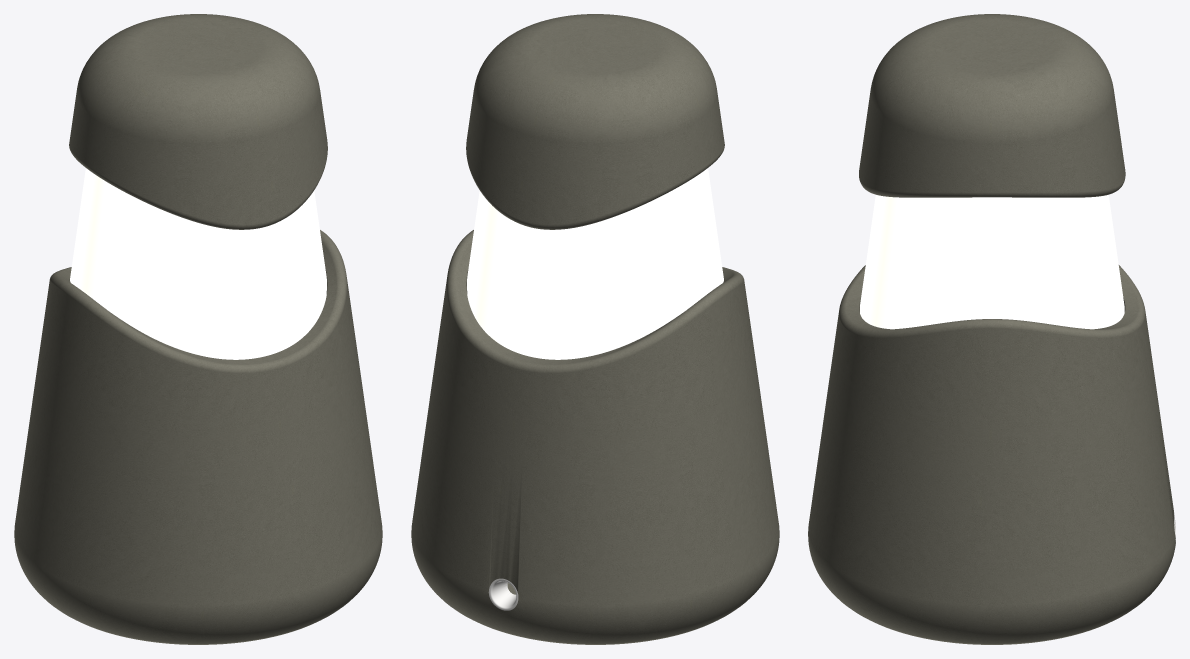
File: ilo.glb
3 renders of one model, left to right at view 1: azimuth 30°, elevation 25°; view 2: azimuth 150°, elevation 25°; view 3: azimuth 270°, elevation 25°, orthographic.
Parts seen in each view (by area): view 1: Holo; view 2: Holo; view 3: Holo.
Boxes of the visible parts, x1,y1,x2,y2 form: Holo: (14,14,382,644); Holo: (411,14,779,644); Holo: (808,14,1175,644).
Size of the model in its own units: 0.1273 by 0.2029 by 0.1272.
4 materials, 2 textured.
